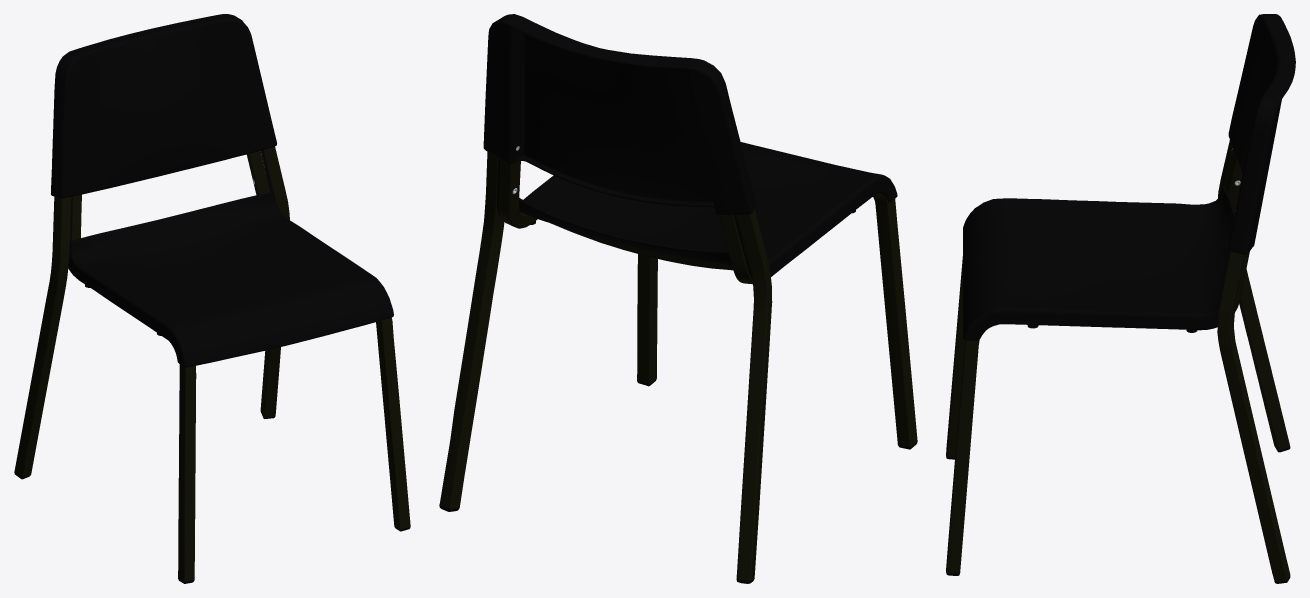
Rendered from TEODORES_50530629.glb.
3 views of the same model, side by side, from view 1: azimuth 30°, elevation 25°; view 2: azimuth 150°, elevation 25°; view 3: azimuth 270°, elevation 25° (orthographic). The views are drawn at different scales.
Visible parts, largest first — view 1: model; view 2: model; view 3: model.
Part boxes in pixels (<box>): model: <box>14,14,410,583</box>; model: <box>439,14,917,583</box>; model: <box>946,14,1295,583</box>.
Bounding box in the file's own units: 0.5175 × 0.7977 × 0.5494.
Materials: 1 (1 with a texture image).
